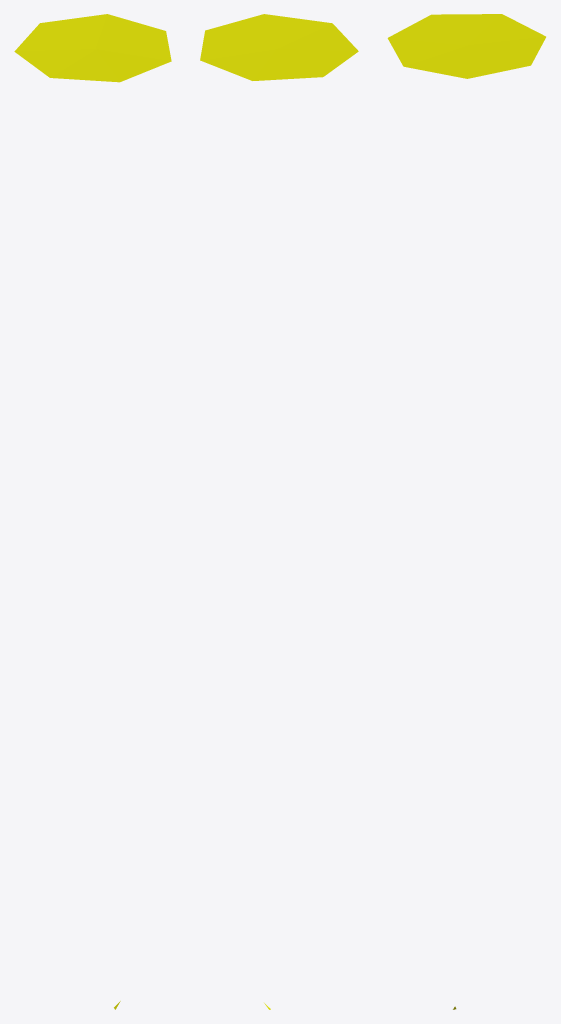
Rendered from flower_bud_F.fbx.
The picture shows the model from 3 angles, left to right: view 1: azimuth 30°, elevation 25°; view 2: azimuth 150°, elevation 25°; view 3: azimuth 270°, elevation 25°; orthographic projection.
Visible parts, largest first — view 1: flower_bud_F; view 2: flower_bud_F; view 3: flower_bud_F.
Boxes of the visible parts, x1,y1,x2,y2 form: flower_bud_F: (14, 14, 171, 1009); flower_bud_F: (200, 14, 358, 1009); flower_bud_F: (387, 14, 545, 1009).
Size of the model in its own units: 5.87 by 40.05 by 6.02.
